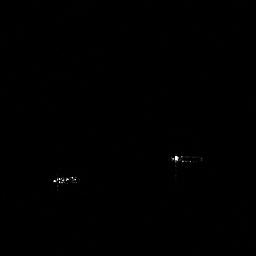ship: (171, 154, 204, 166), (51, 174, 77, 183)
